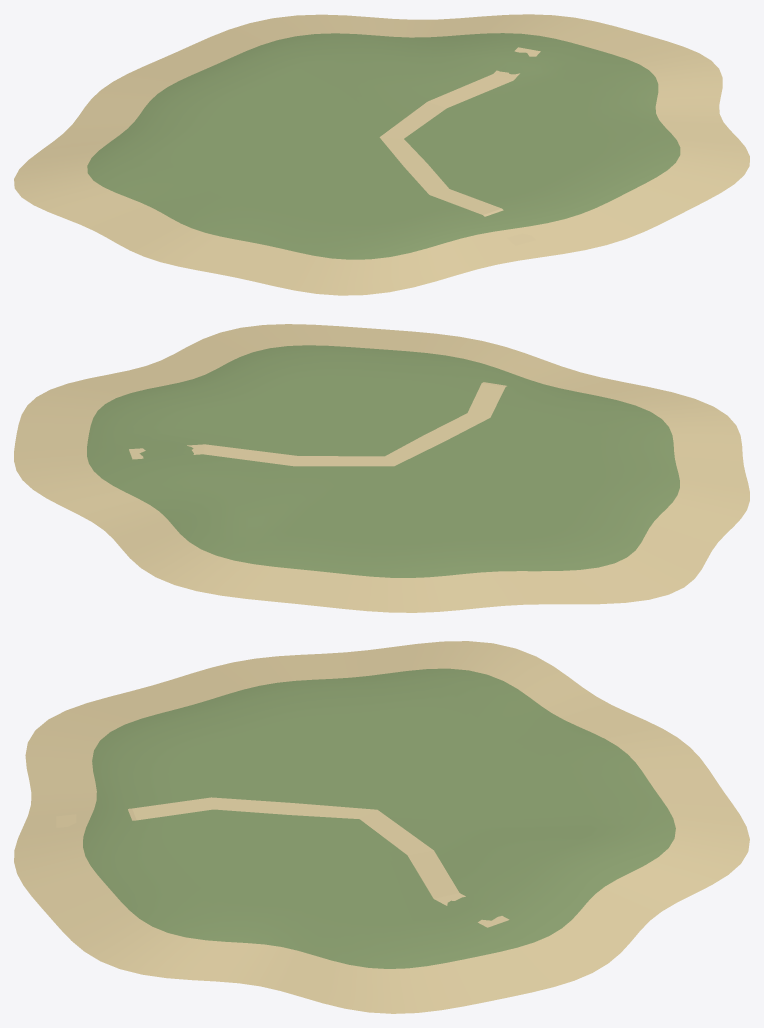
File: island_terrain.glb
3 renders of one model, top to bottom at view 1: azimuth 30°, elevation 25°; view 2: azimuth 150°, elevation 25°; view 3: azimuth 270°, elevation 25°, orthographic. The views are drawn at different scales.
Visible parts, largest first — view 1: island_ground-col, island_terrain_sand; view 2: island_ground-col, island_terrain_sand; view 3: island_ground-col, island_terrain_sand.
Boxes of the visible parts, bbox=[...] form: island_ground-col: bbox=[14, 14, 749, 295]; island_terrain_sand: bbox=[379, 47, 540, 245]; island_ground-col: bbox=[14, 324, 749, 612]; island_terrain_sand: bbox=[129, 363, 538, 466]; island_ground-col: bbox=[14, 641, 749, 1013]; island_terrain_sand: bbox=[56, 797, 509, 927].
Bounding box in the file's own units: 67.83 × 1.29 × 56.58.
